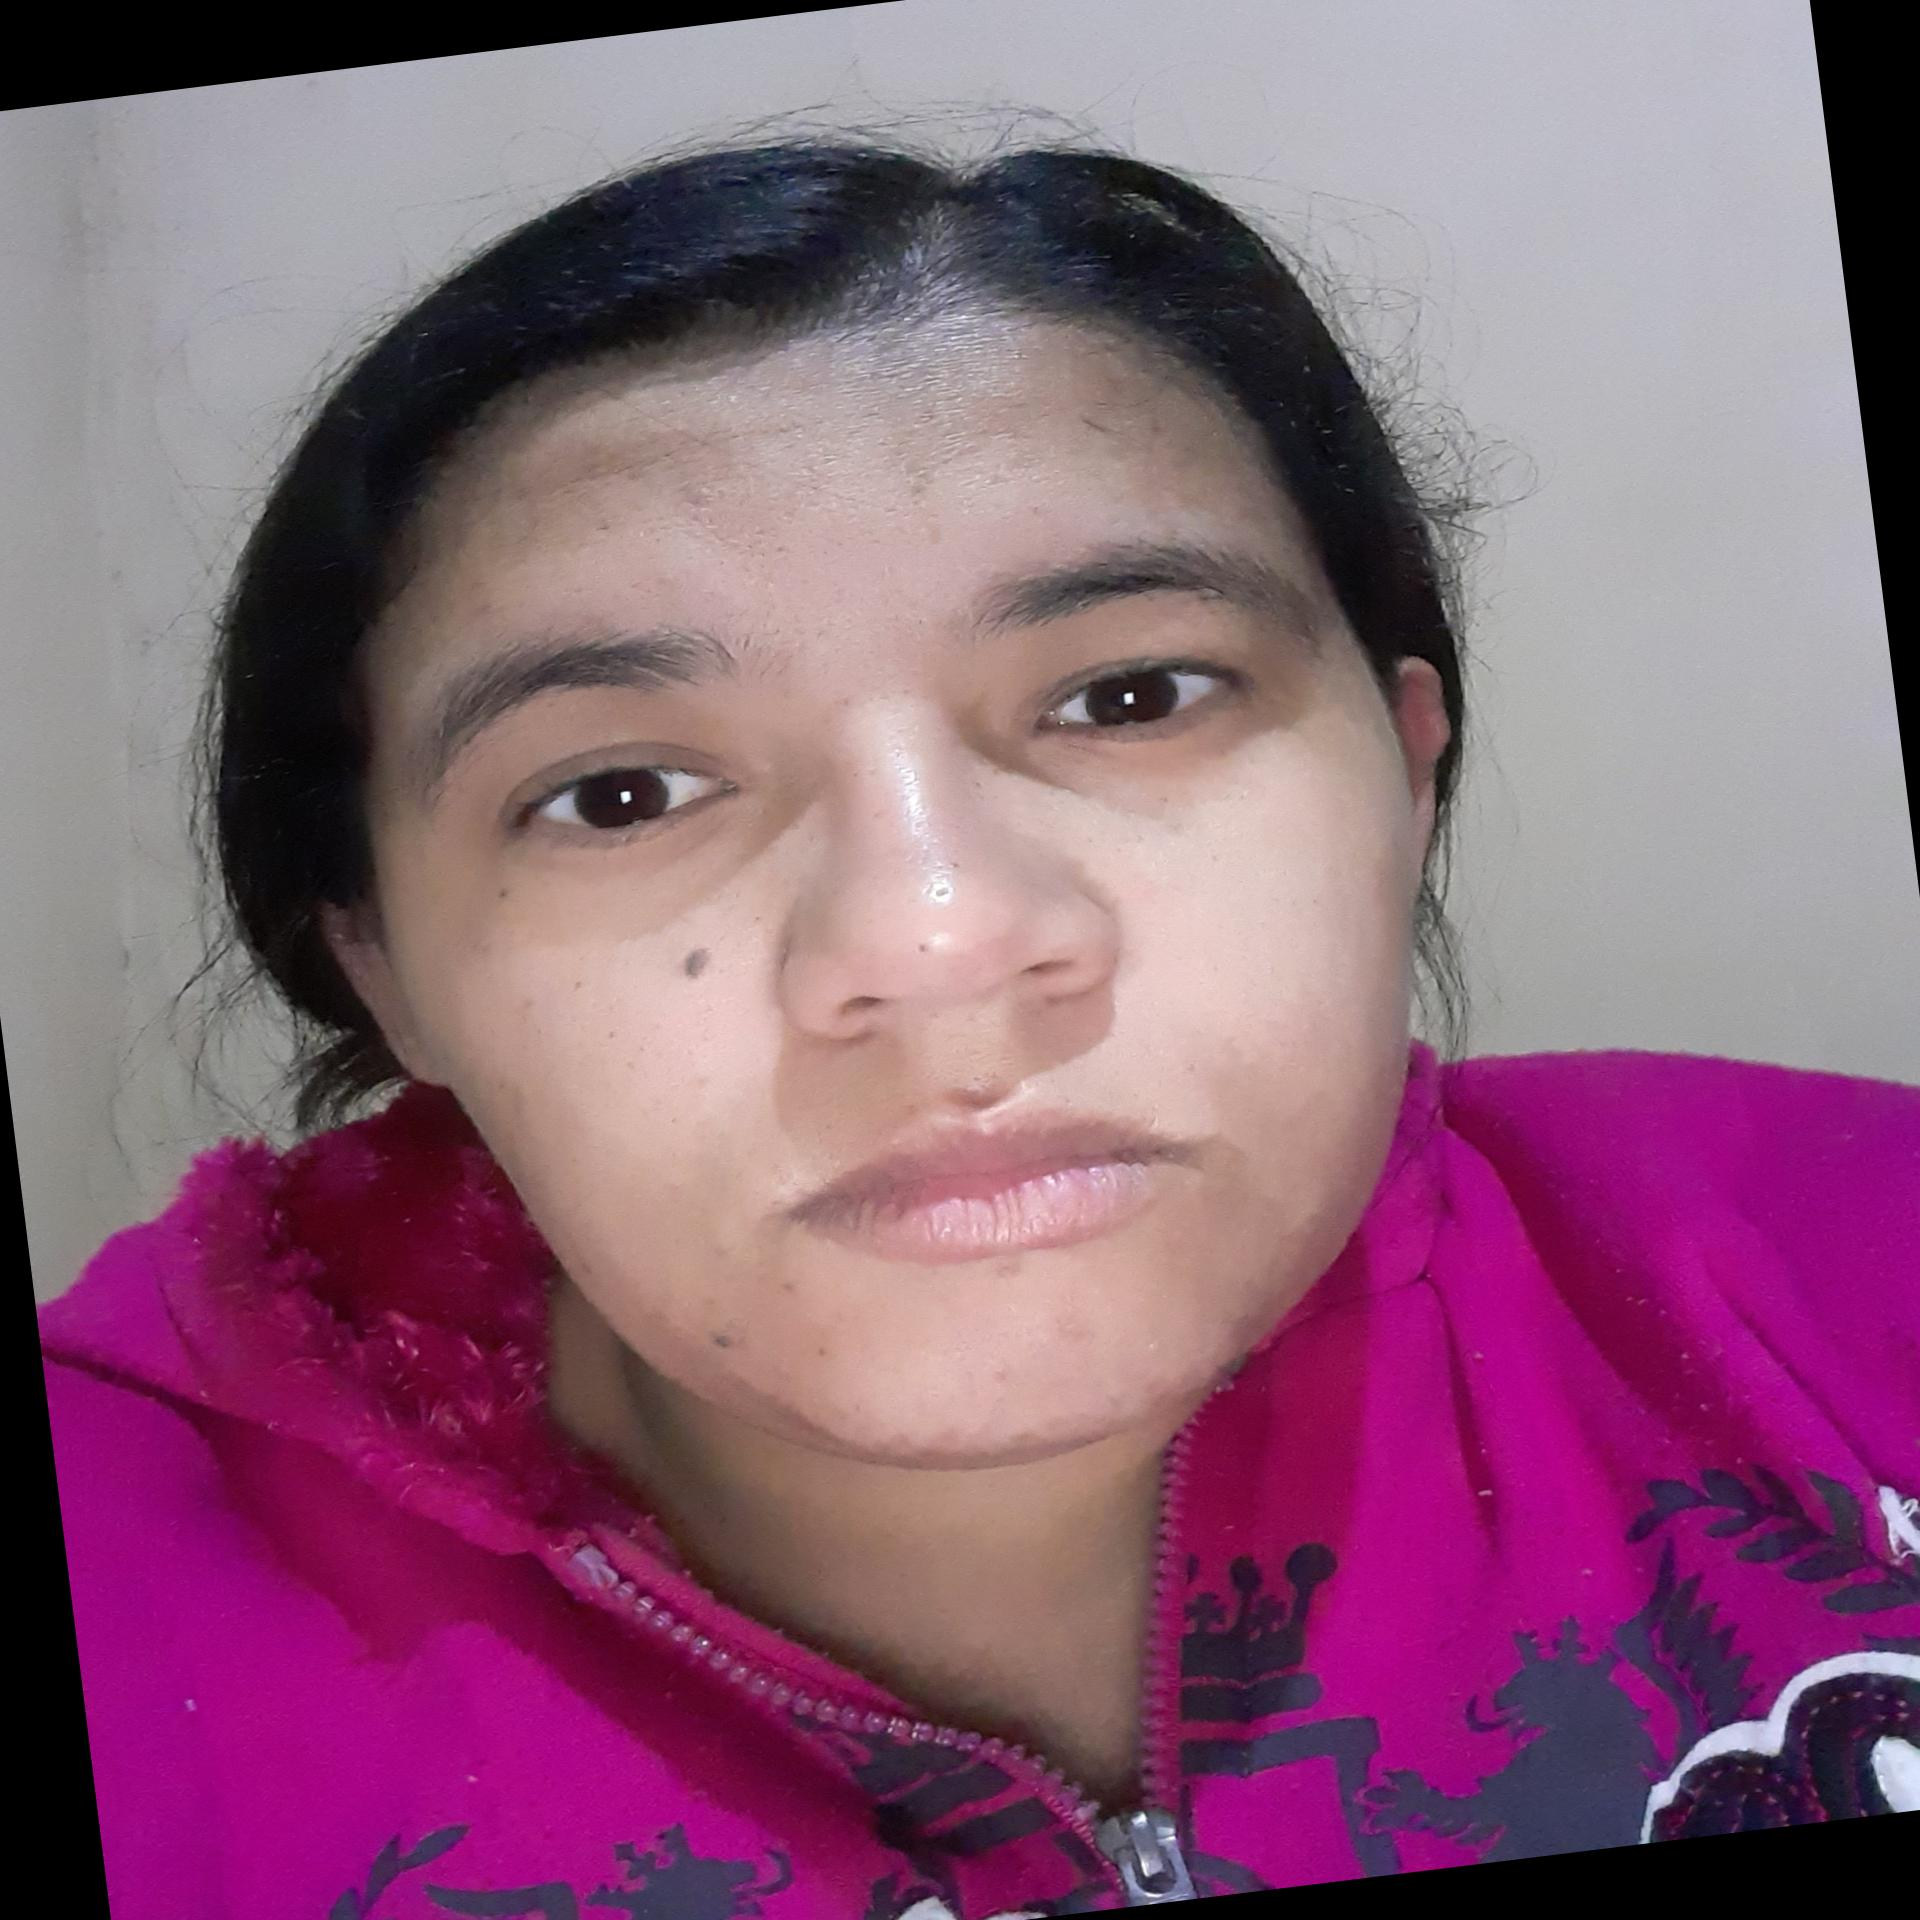Acne: (853, 1407, 969, 1458), (983, 1250, 1051, 1294), (1043, 1306, 1101, 1352), (1138, 1326, 1197, 1361), (1289, 1190, 1327, 1238), (976, 1357, 1030, 1391)
Englarged Pores: (862, 768, 988, 918), (679, 487, 800, 575), (897, 468, 969, 542), (842, 491, 911, 542)
